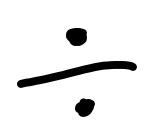div: (17, 28, 137, 117)
